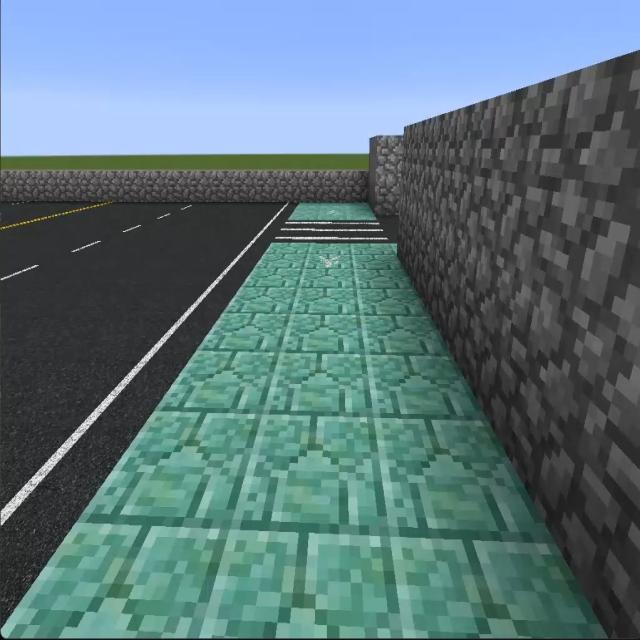crosswalk: (274, 219, 394, 241)
road: (2, 201, 297, 623), (378, 218, 398, 242)
sidewalk: (1, 240, 612, 634), (289, 203, 375, 220)
